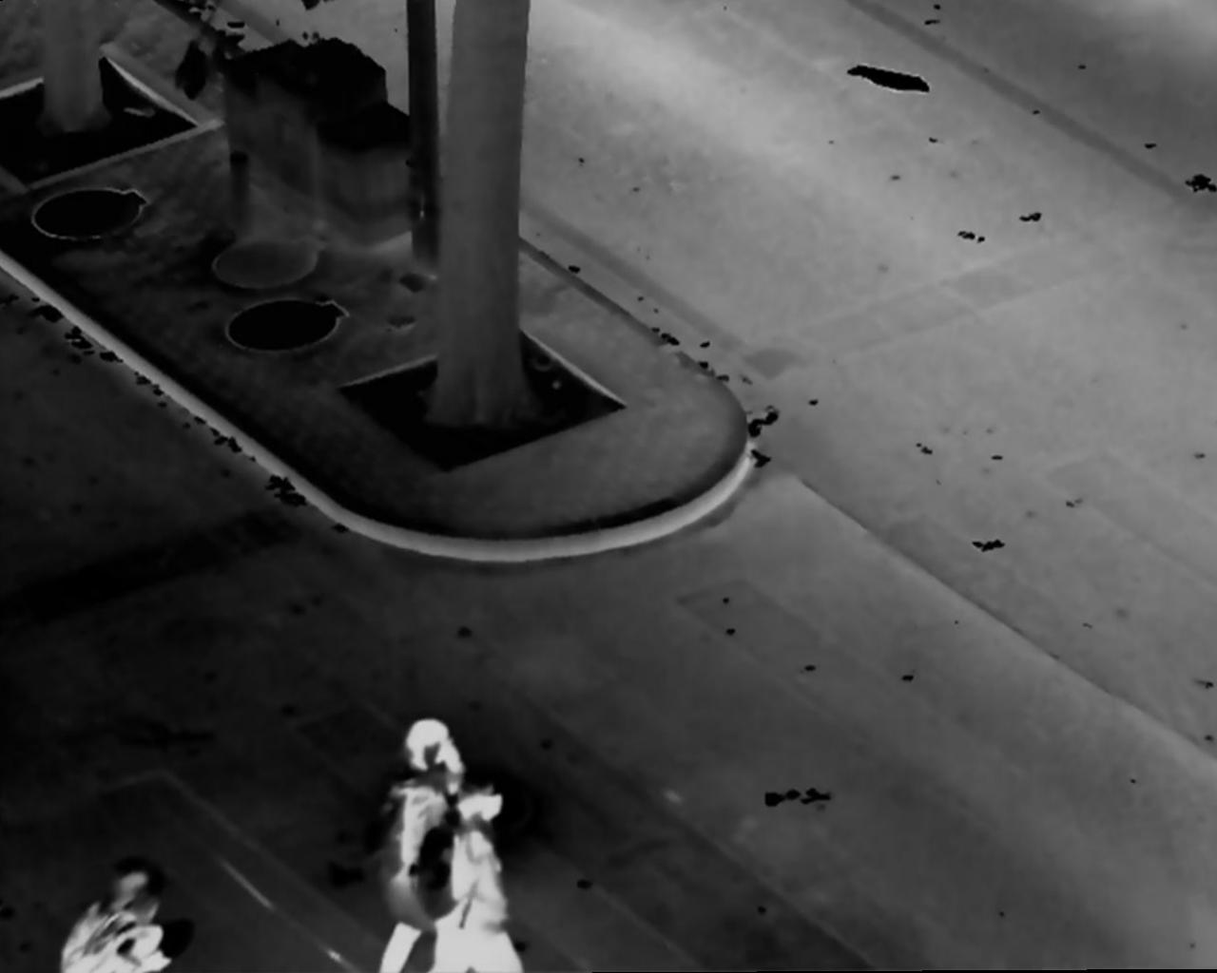person: (413, 762, 546, 973), (375, 714, 464, 973), (48, 854, 183, 973)
